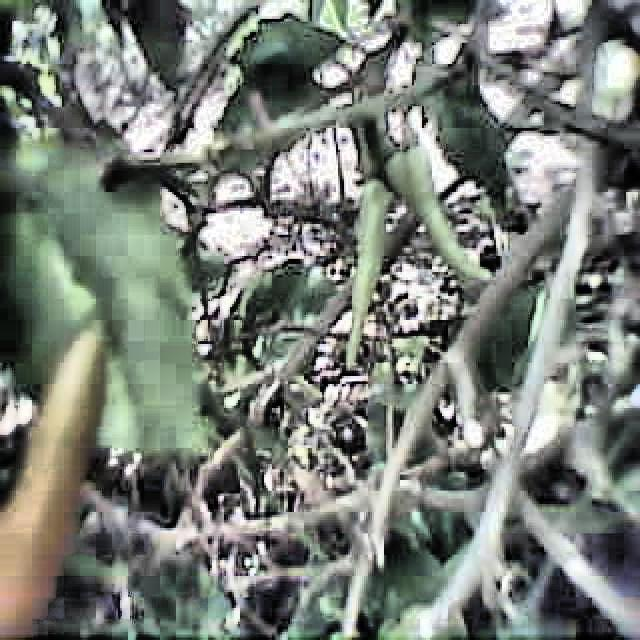Cabai: (0, 315, 82, 637)
